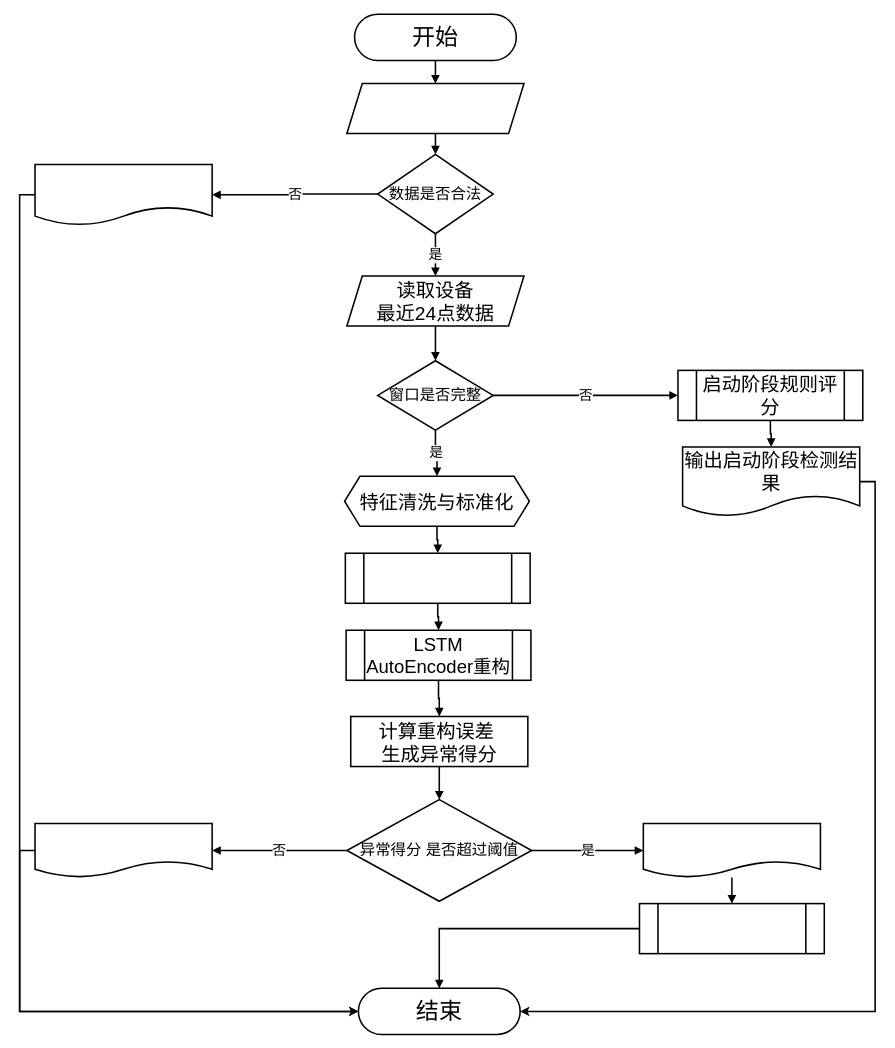
Some shapes in this 895 by 1048 pixel diagram are drawn without their labels. Here are the shapes that lost their labels. From the top down, the centre of each, then its label:
the point at 435,108: 接收燃气表 上报数据
the point at 123,194: 记录无效数据 返回错误信息
the point at 437,578: 构造模型输入窗口 24 × 7
the point at 123,850: 记录正常检测结果
the point at 731,850: 写入异常事件
the point at 731,928: 生成告警并联动工单
